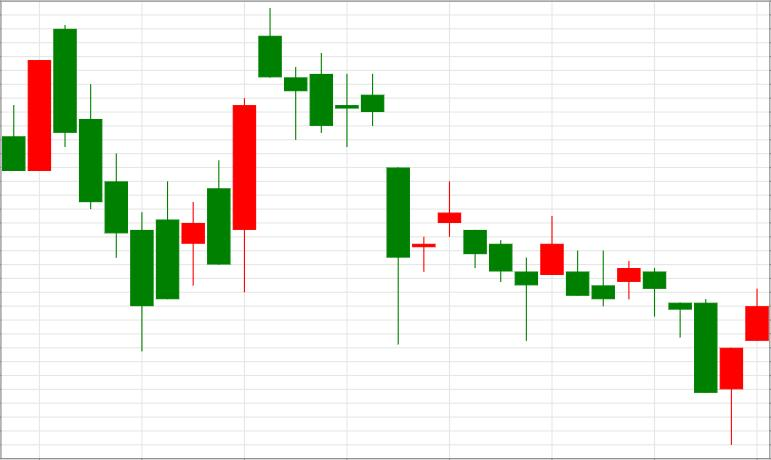hammer_rise: (618, 261, 742, 446)
